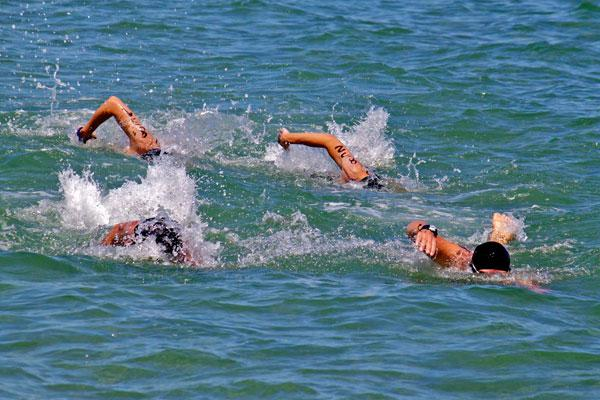human: (404, 215, 550, 297), (274, 121, 386, 192), (72, 94, 166, 164), (97, 215, 200, 274)
